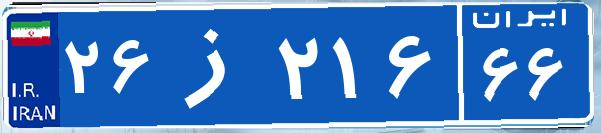1: (330, 28, 385, 110)
2: (273, 28, 330, 110), (57, 26, 110, 107)
6: (385, 28, 445, 110), (475, 38, 525, 113), (110, 28, 158, 105), (525, 38, 570, 115)
ز: (158, 15, 273, 115)
